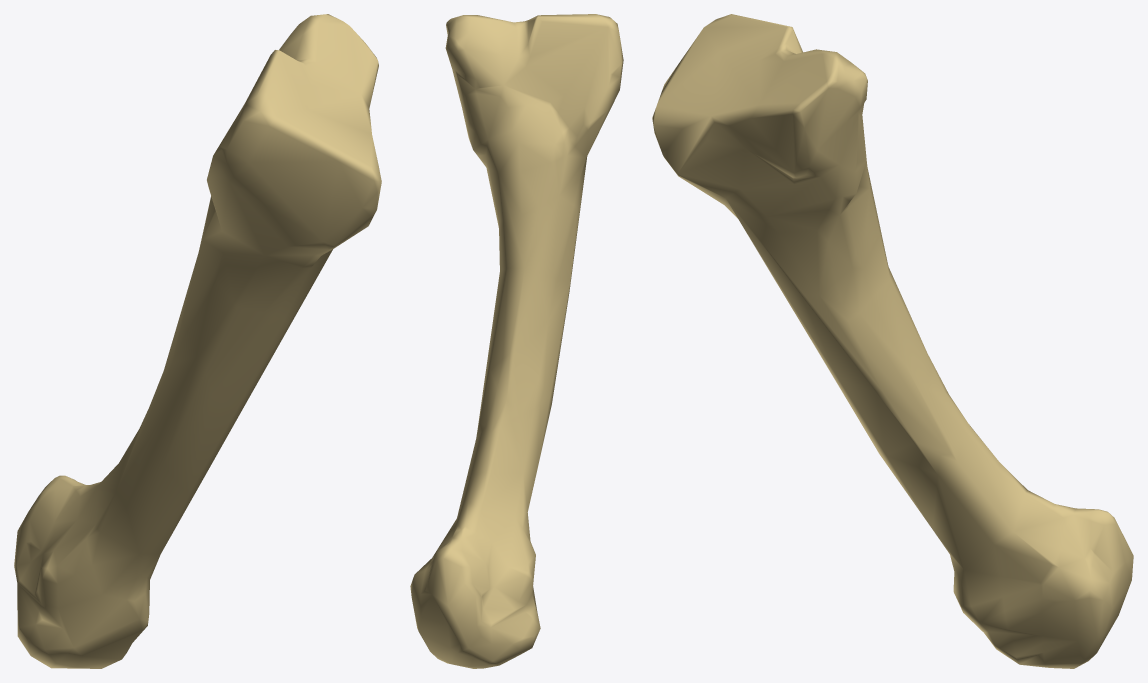
The picture shows the model from 3 angles, left to right: view 1: azimuth 30°, elevation 25°; view 2: azimuth 150°, elevation 25°; view 3: azimuth 270°, elevation 25°; orthographic projection. The views are drawn at different scales.
Visible parts, largest first — view 1: 右侧第三跖骨; view 2: 右侧第三跖骨; view 3: 右侧第三跖骨.
Boxes of the visible parts, box(x1,y1,x2,y2) form: 右侧第三跖骨: box(14, 14, 381, 668); 右侧第三跖骨: box(410, 14, 623, 668); 右侧第三跖骨: box(652, 14, 1133, 668).
Size of the model in its own units: 0.034 by 0.0998 by 0.0655.
